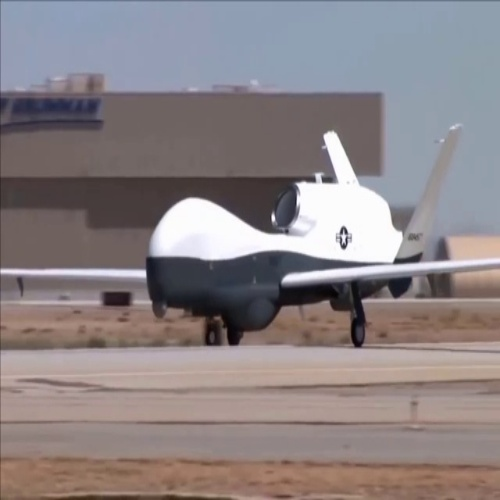uav: (3, 122, 497, 349)
